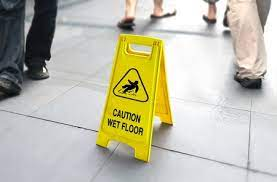wet caution sign: (87, 17, 184, 162)
